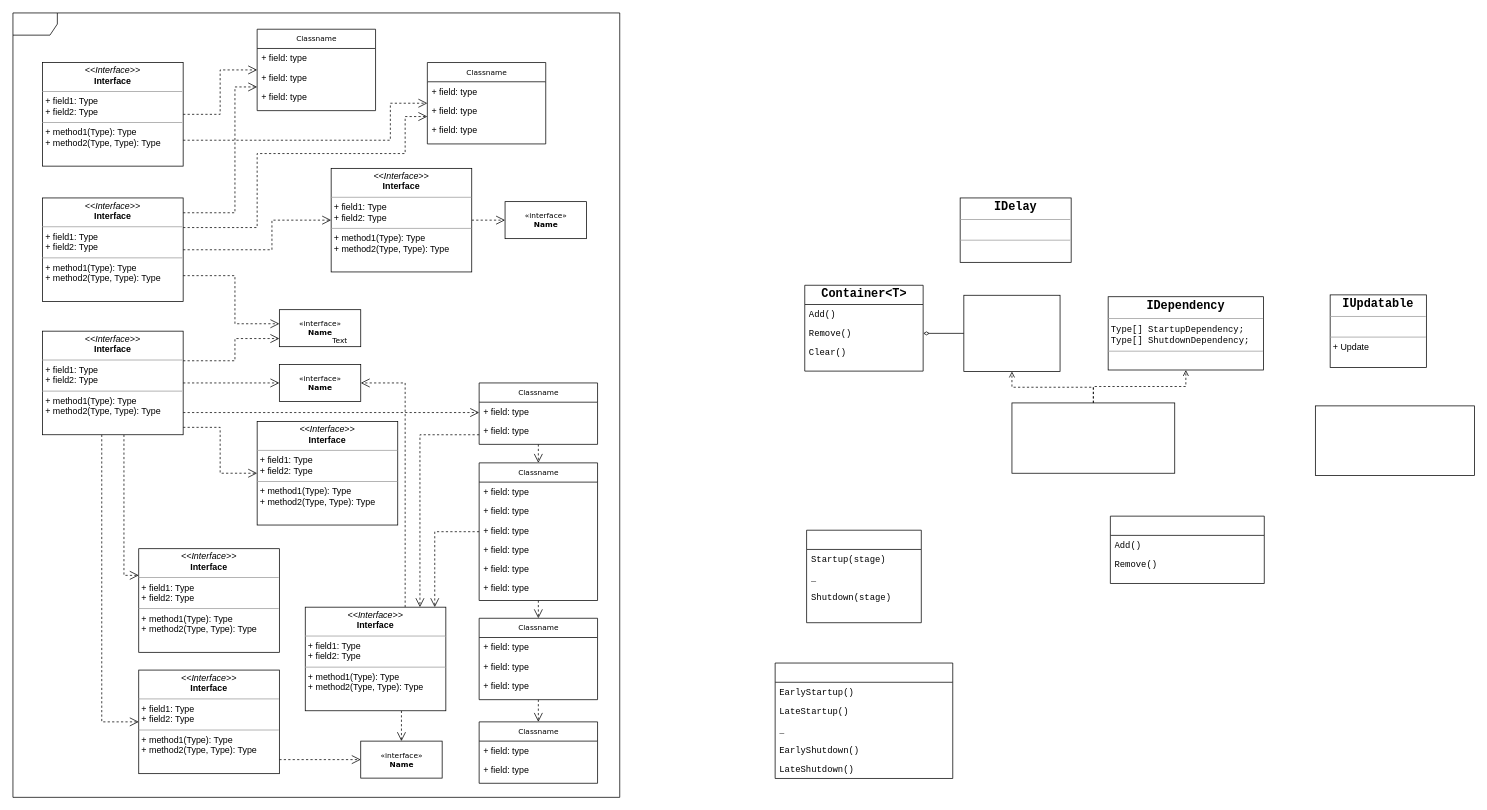
Some shapes in this 1487 by 810 pixel diagram are drawn without their labels. The shapes that lost their labels are listed below. From the top down, each one's box as (x1, y1, x2, y2) in pixels, then its label:
(963, 295, 1060, 371): ISystem + Startup + Shutdown
(12, 12, 620, 797): frame
(1011, 402, 1175, 473): IDependencySystem
(1315, 405, 1474, 475): UpdatableContainer + Update
(1110, 515, 1264, 583): DependencyGraph
(806, 529, 921, 623): StagedManager
(774, 662, 953, 778): SystemManager
